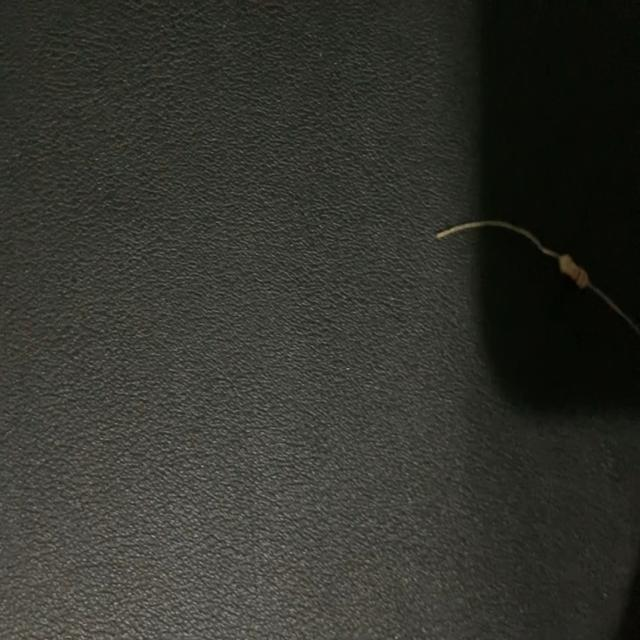resistor: (432, 196, 640, 351)
